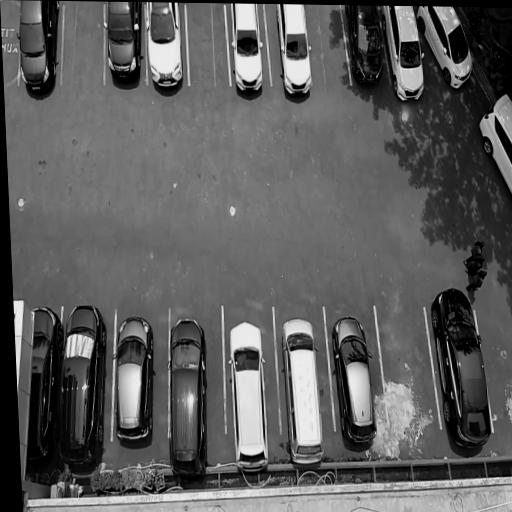Car: (51, 292, 114, 472), (432, 283, 497, 456), (160, 312, 213, 484), (19, 296, 70, 471), (222, 315, 272, 477), (107, 305, 159, 454), (327, 312, 382, 450), (279, 314, 326, 472), (418, 6, 477, 95), (144, 2, 187, 110), (15, 0, 63, 95), (478, 81, 512, 215), (276, 4, 317, 110), (387, 6, 427, 113), (230, 4, 269, 109), (101, 1, 146, 90), (346, 5, 388, 94)
Space Available: (383, 291, 430, 443), (188, 3, 229, 98), (65, 1, 105, 93), (312, 5, 344, 96), (0, 0, 19, 86)
